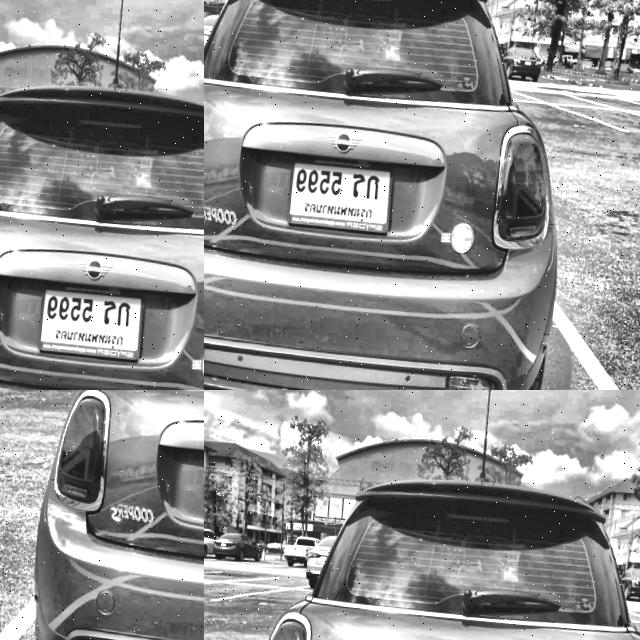license-plate: (204, 106, 282, 191)
